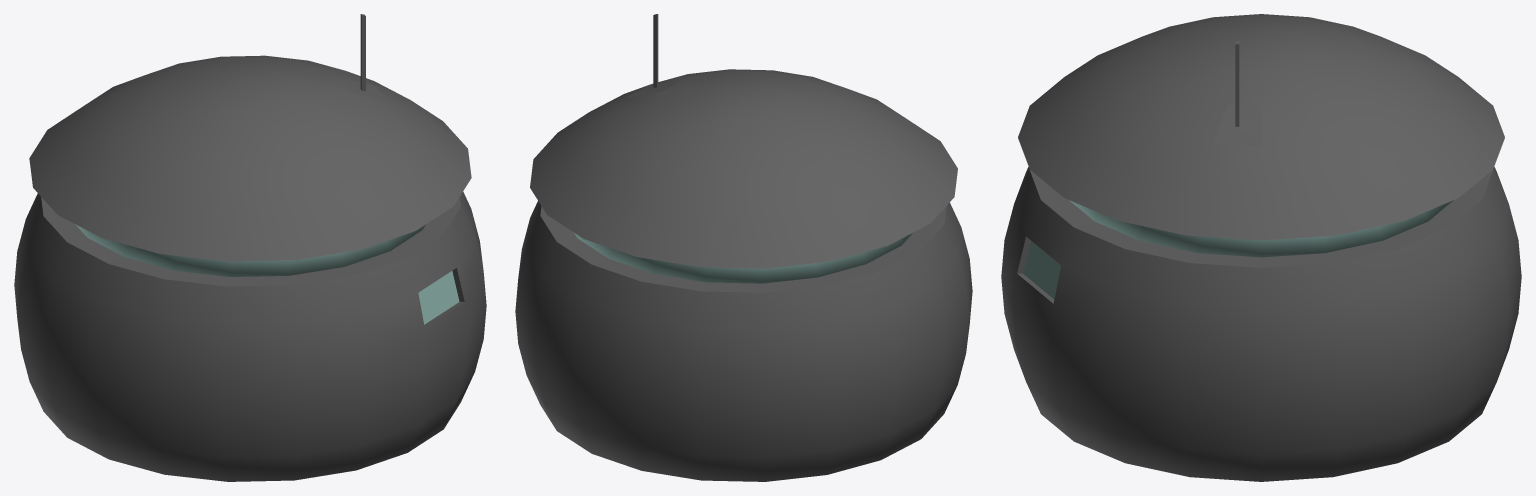
File: Dome.fbx
The picture shows the model from 3 angles, left to right: view 1: azimuth 30°, elevation 25°; view 2: azimuth 150°, elevation 25°; view 3: azimuth 270°, elevation 25°; orthographic projection. The views are drawn at different scales.
Parts seen in each view (by area): view 1: pSphere5; view 2: pSphere5; view 3: pSphere5.
Boxes of the visible parts, <box> form: pSphere5: <box>14,14,486,481</box>; pSphere5: <box>515,14,972,481</box>; pSphere5: <box>1001,14,1521,481</box>.
Bounding box in the file's own units: 574 × 483 × 574.
